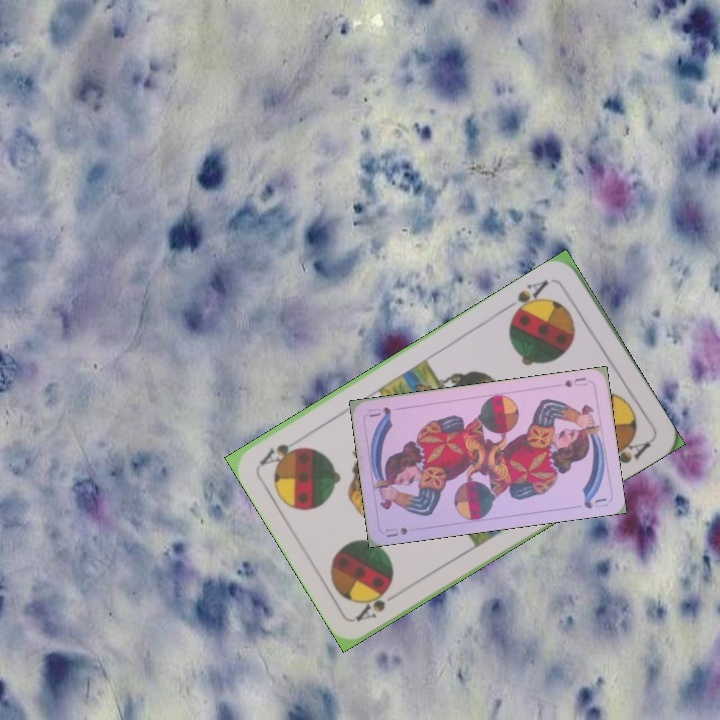SA: (351, 582, 405, 624), (502, 276, 551, 321)
SU: (381, 523, 411, 540), (560, 373, 590, 390)
